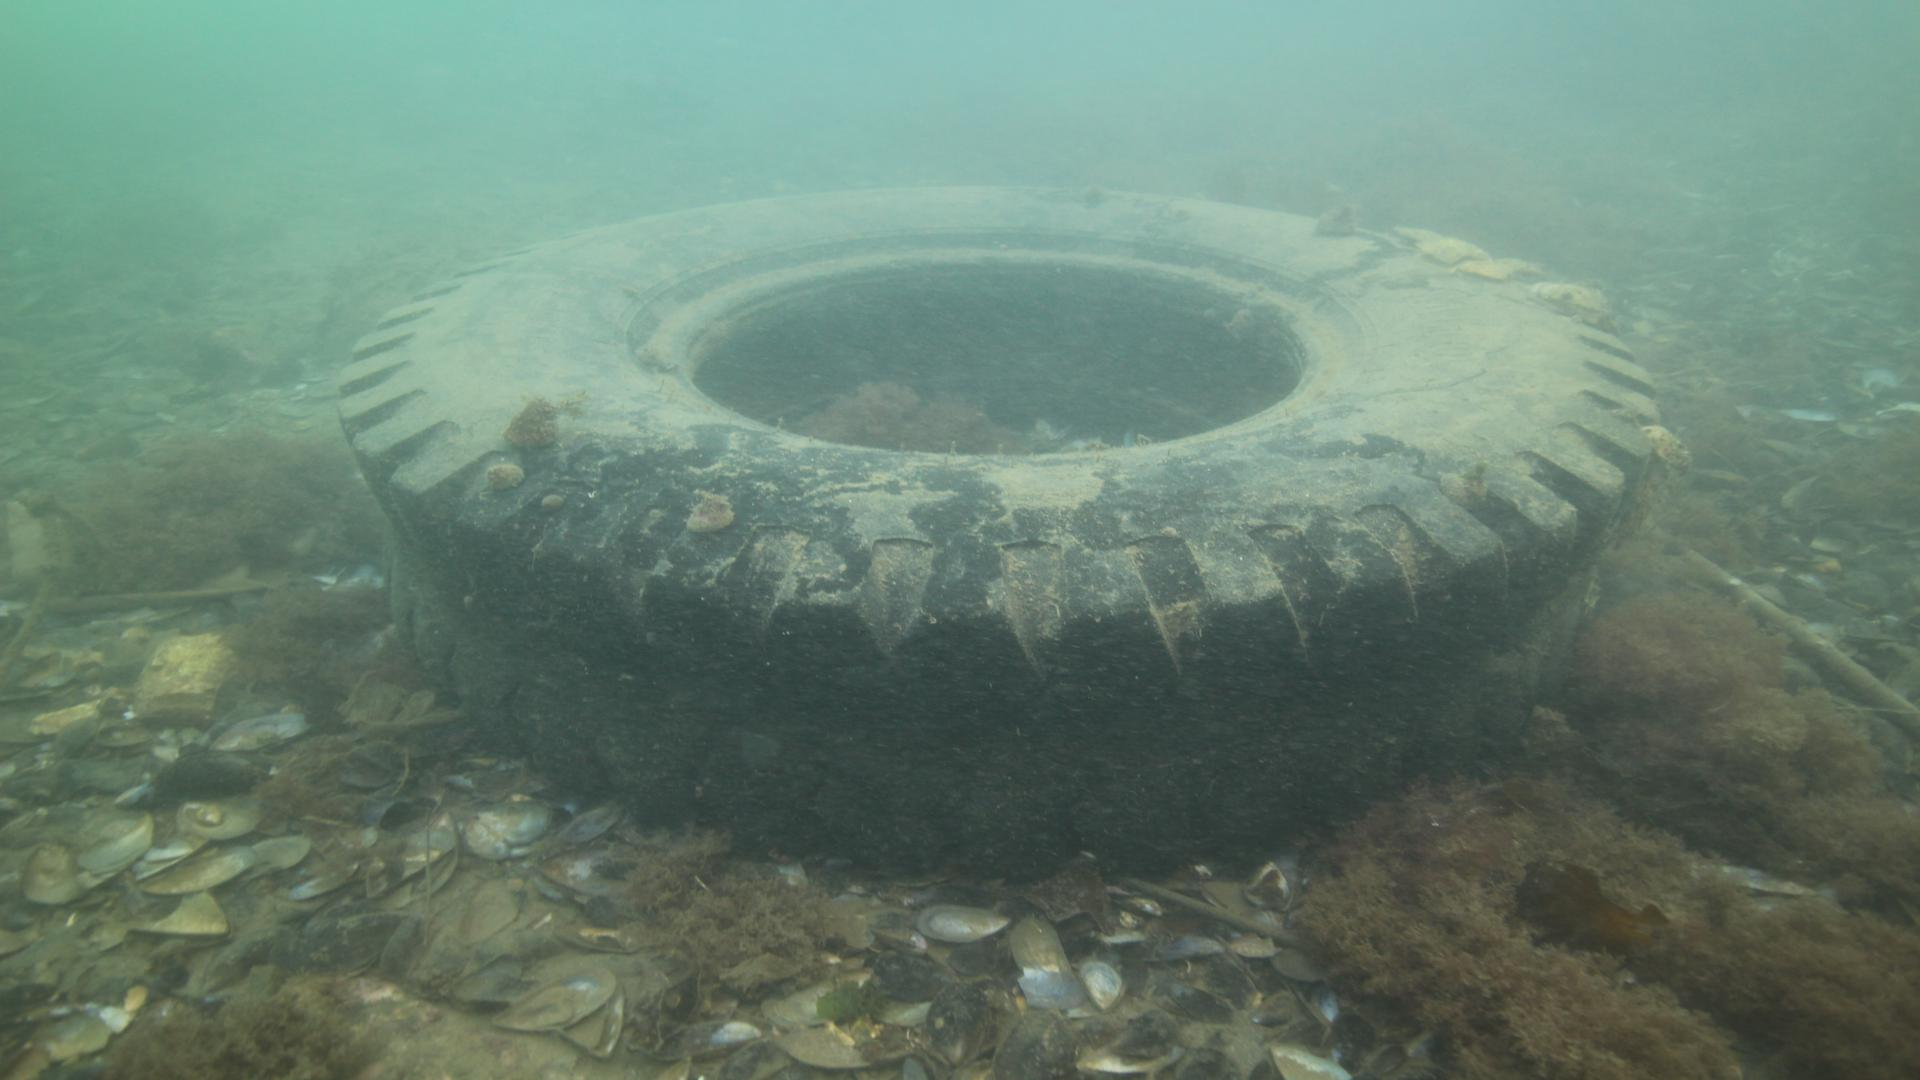tire: (335, 181, 1664, 890)
